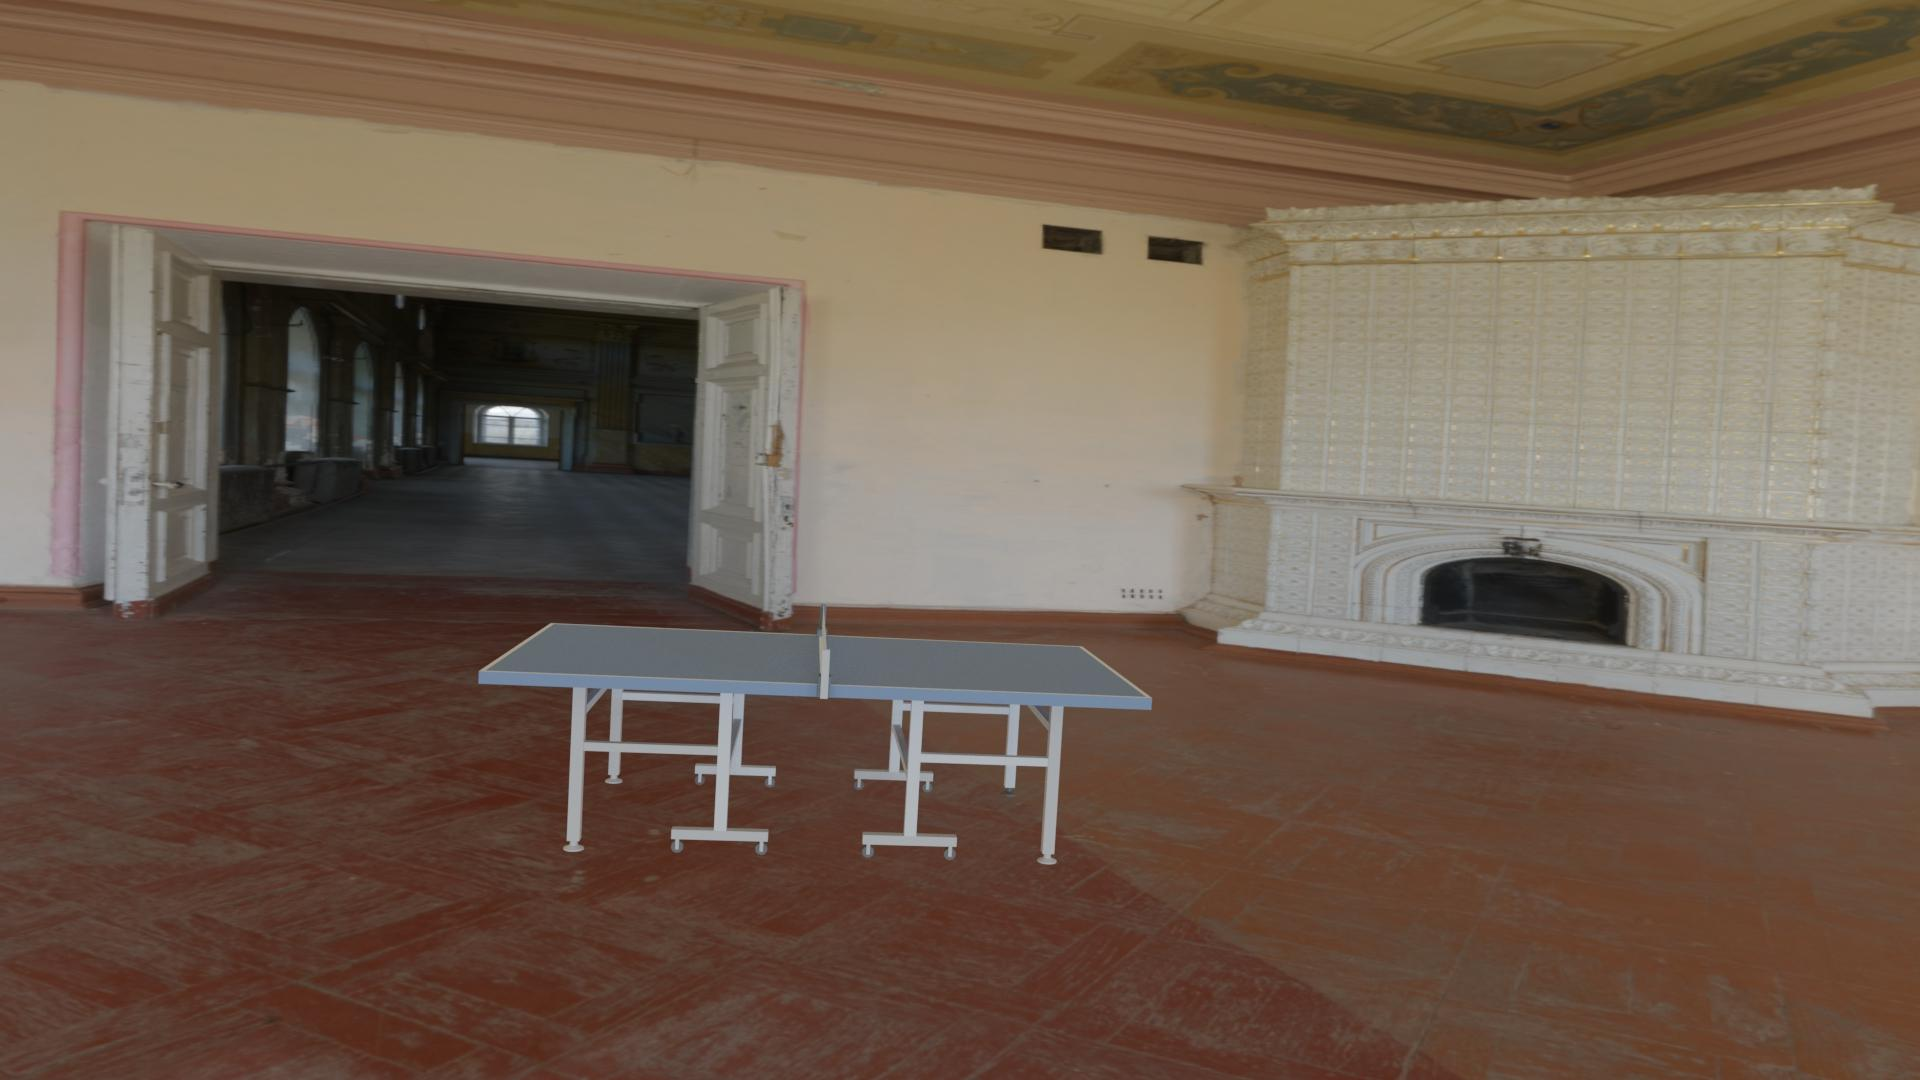table: (485, 624, 1146, 698)
